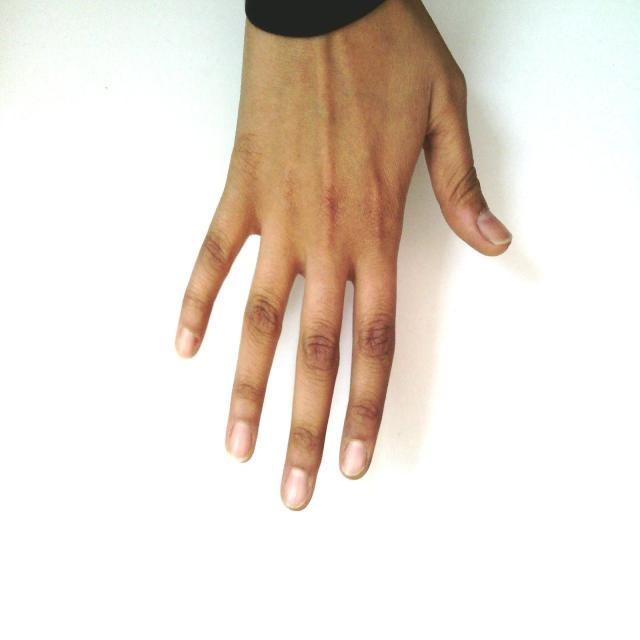Fingernail: (477, 210, 512, 245), (283, 467, 310, 510), (228, 424, 253, 461), (341, 440, 366, 477), (178, 330, 200, 356)
